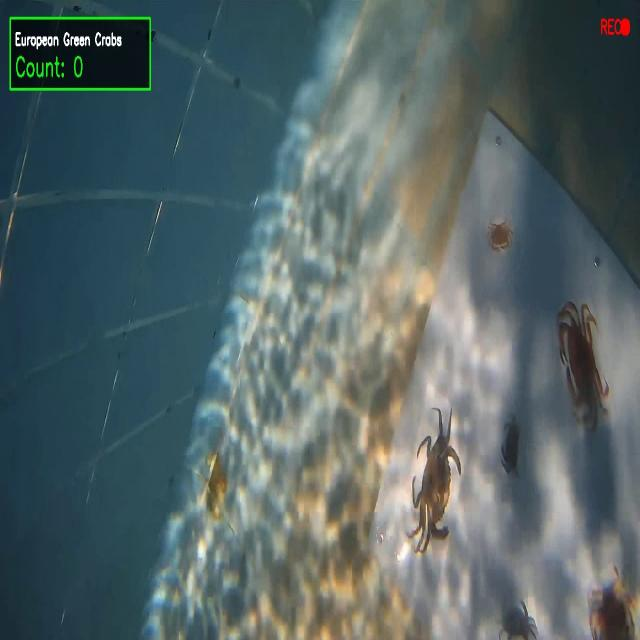European_Green_Crab: (403, 399, 467, 568), (492, 584, 549, 638)
